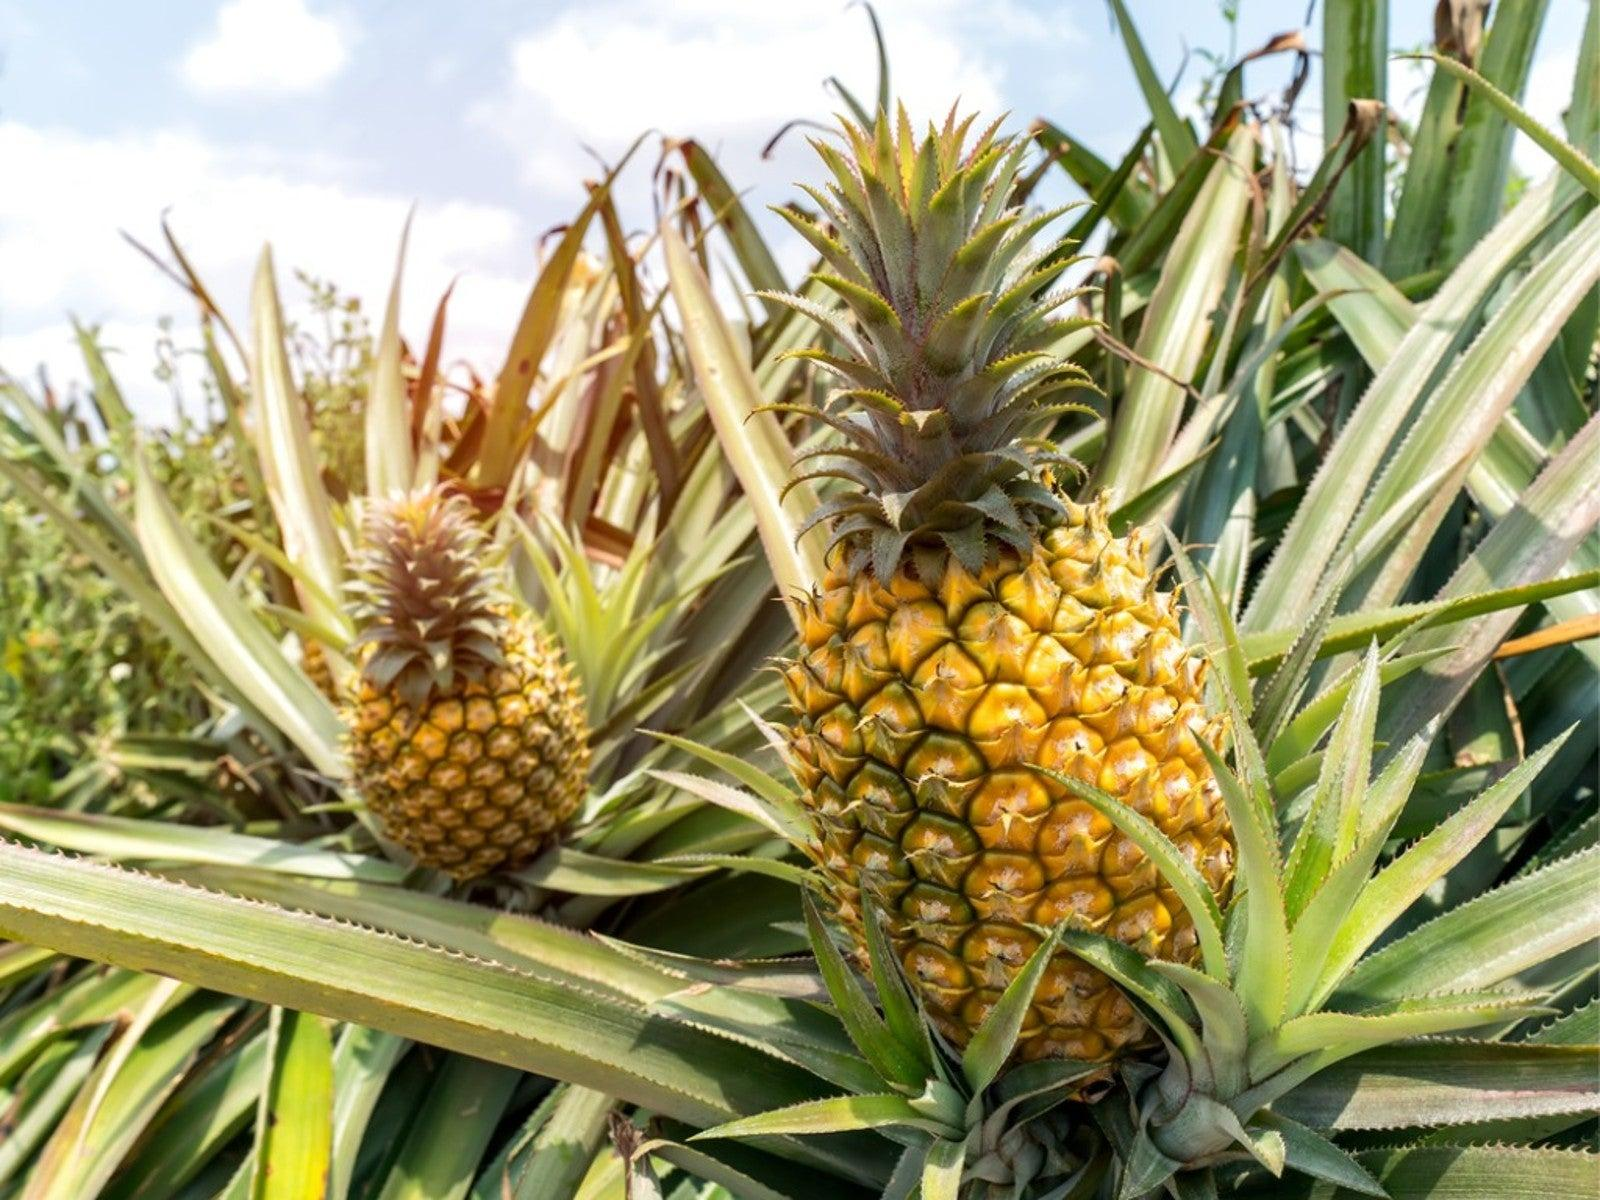pineapple: (703, 98, 1324, 1128), (302, 460, 624, 908)
